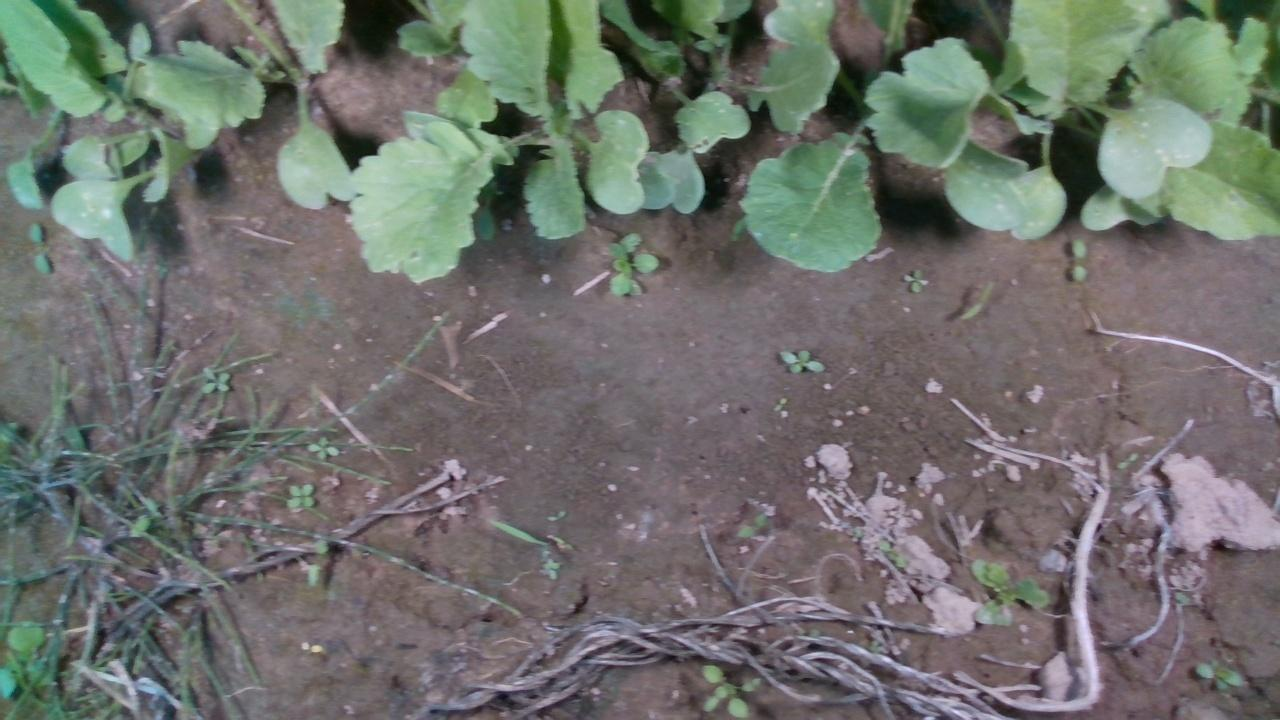weed: (25, 221, 53, 278), (776, 347, 824, 374), (1069, 238, 1089, 281), (902, 266, 928, 294), (771, 395, 787, 410)
